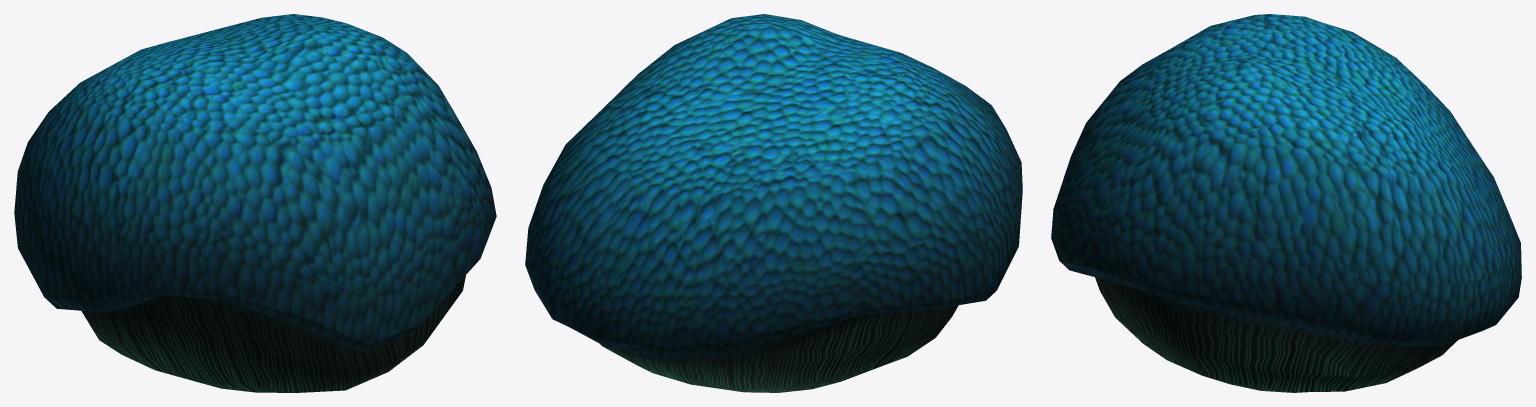
Rendered from MushroomBlueLarge.obj.
3 renders of one model, left to right at view 1: azimuth 30°, elevation 25°; view 2: azimuth 150°, elevation 25°; view 3: azimuth 270°, elevation 25°, orthographic. The views are drawn at different scales.
Visible parts, largest first — view 1: MushroomBlueLarge; view 2: MushroomBlueLarge; view 3: MushroomBlueLarge.
Boxes of the visible parts, x1,y1,x2,y2 form: MushroomBlueLarge: (14,14,496,392); MushroomBlueLarge: (525,14,1022,392); MushroomBlueLarge: (1051,14,1521,392).
Bounding box in the file's own units: 0.5329 × 0.4013 × 0.5637.
